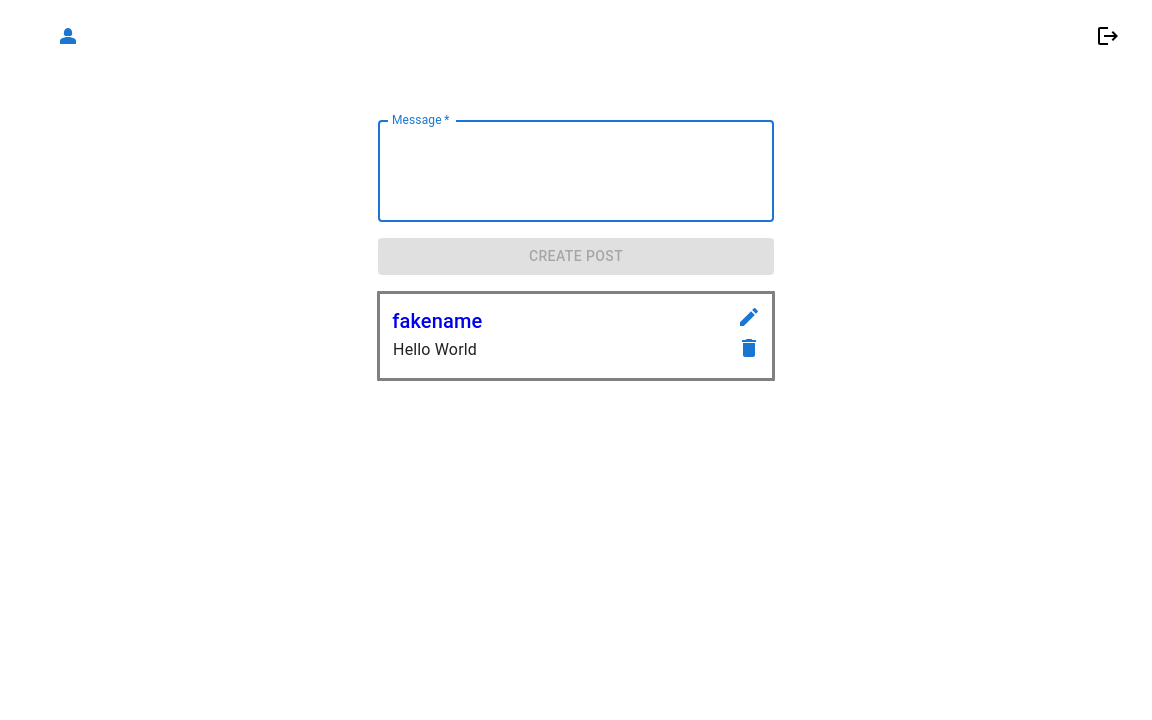
it: Home › does not show the delete link if editing the post
Click the link named "edit-icon" at [749, 320], box top-left (737, 304), bottom-right (761, 336)
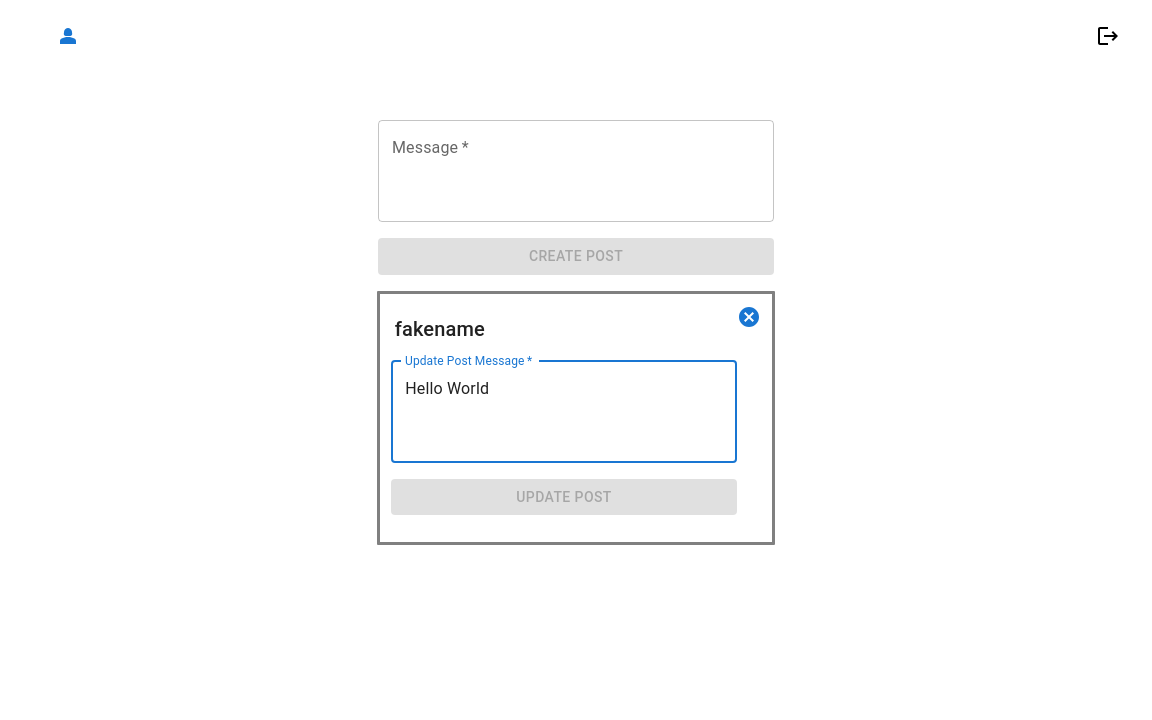
Check: the link labelled "delete-icon" is gone
